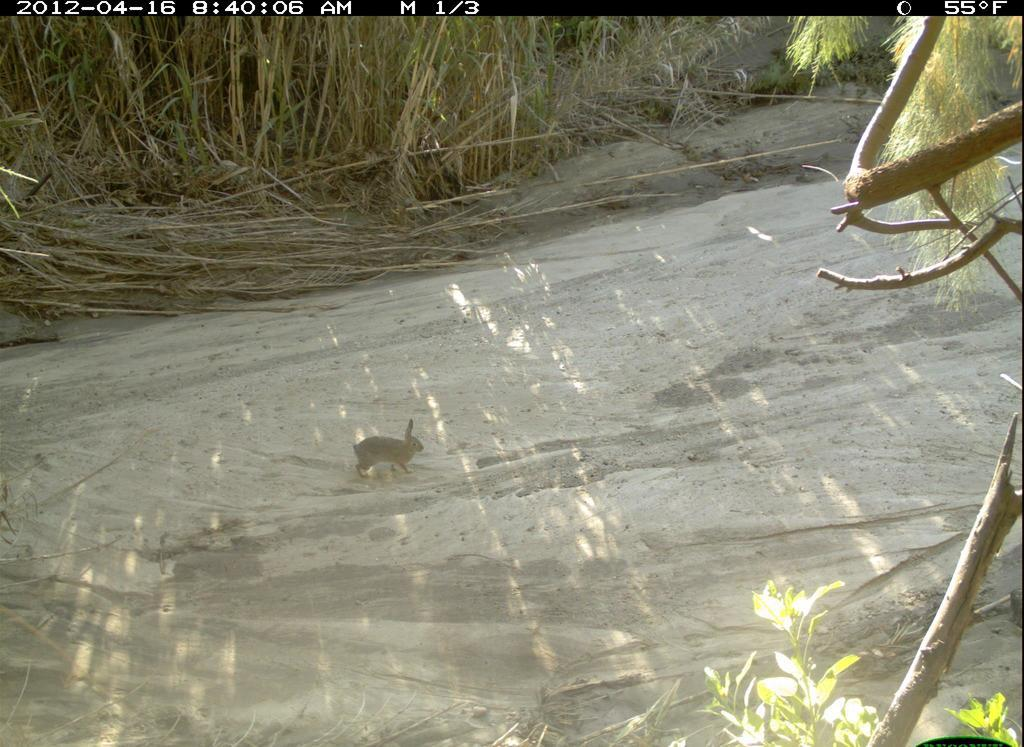rabbit: (350, 417, 429, 488)
